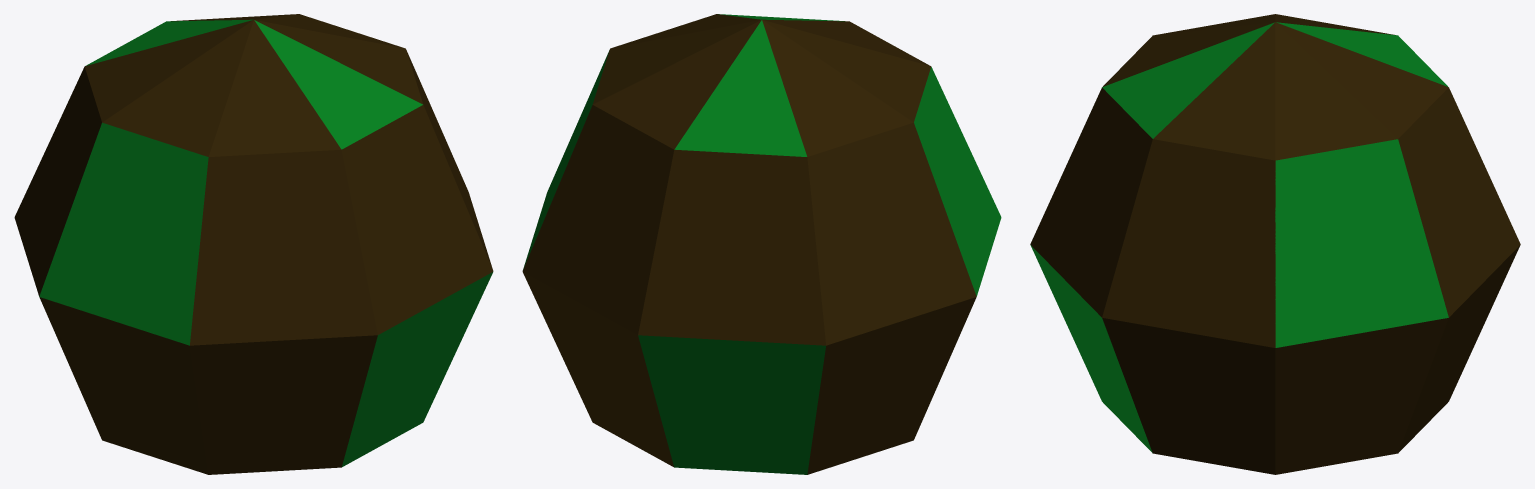
The model's file is uranium.gltf.
The picture shows the model from 3 angles, left to right: view 1: azimuth 30°, elevation 25°; view 2: azimuth 150°, elevation 25°; view 3: azimuth 270°, elevation 25°; orthographic projection.
Visible parts, largest first — view 1: Cube; view 2: Cube; view 3: Cube.
Part boxes in pixels (box(x1,y1,x2,y2)): Cube: box(14, 14, 493, 474); Cube: box(522, 14, 1001, 474); Cube: box(1030, 14, 1520, 474).
Bounding box in the file's own units: 2 × 2 × 2.
1 material, 1 textured.
